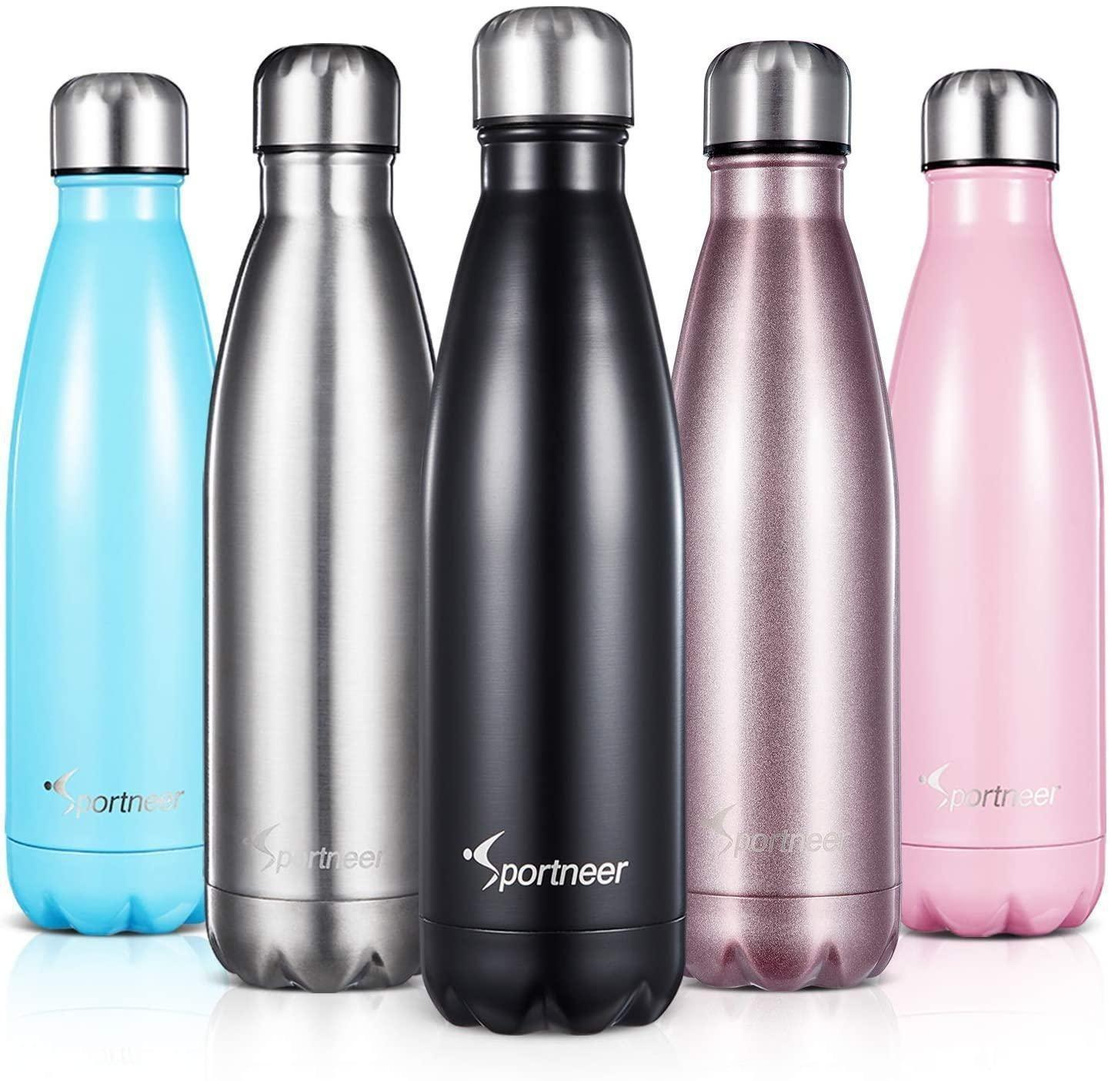gym bottle: (415, 5, 688, 1038), (666, 37, 906, 999), (201, 41, 442, 999), (885, 58, 1110, 950), (2, 63, 222, 946)
